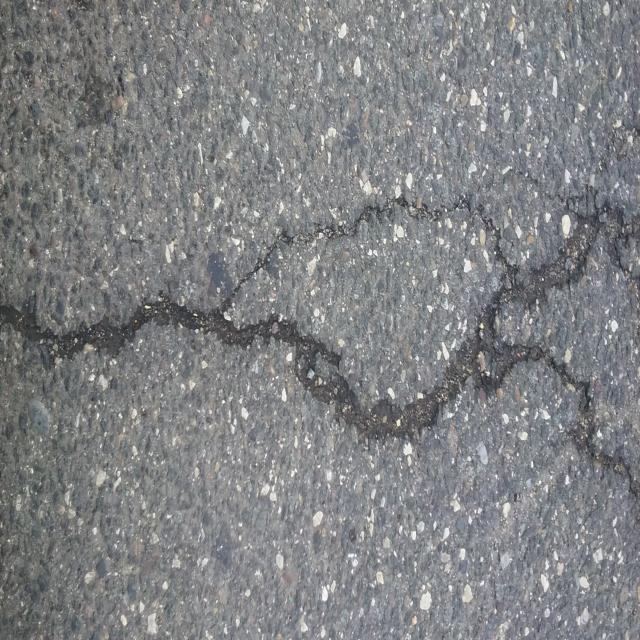Crack: (0, 196, 640, 522)
